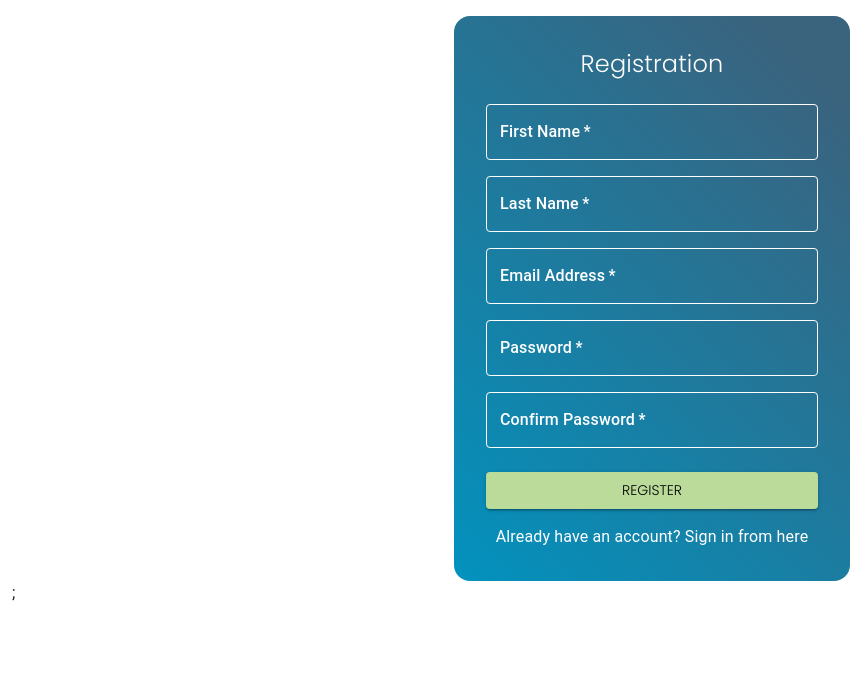
shows error message if email not in proper format
Type "test-name" into the field labelled "First Name *" at (652, 132), box x1=486 y1=104 x2=818 y2=160
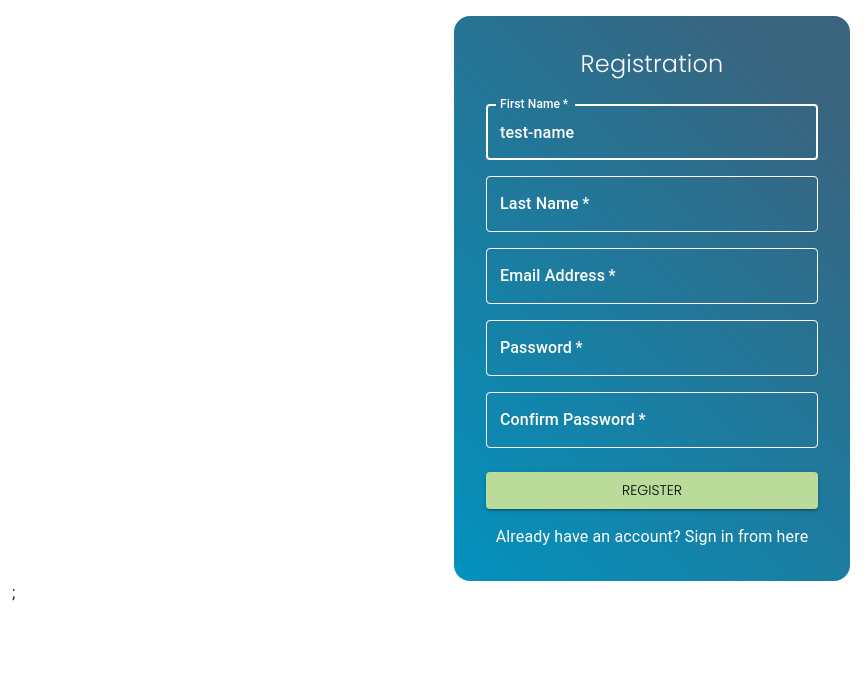
Type "test-name" into the field labelled "Last Name *" at (652, 204), box x1=486 y1=176 x2=818 y2=232
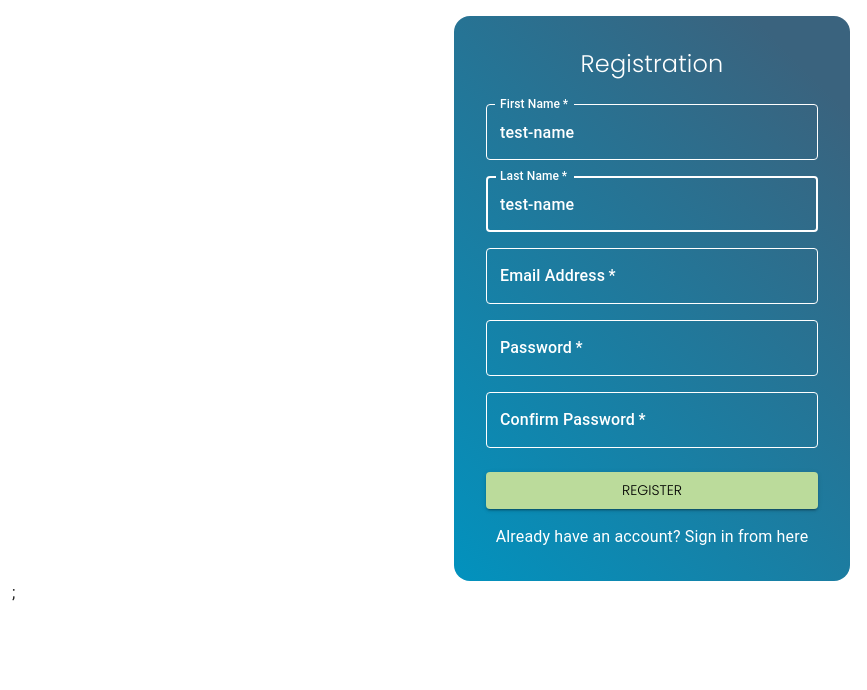
Type "testgmailcom" into the field labelled "Email Address *" at (652, 276), box x1=486 y1=248 x2=818 y2=304
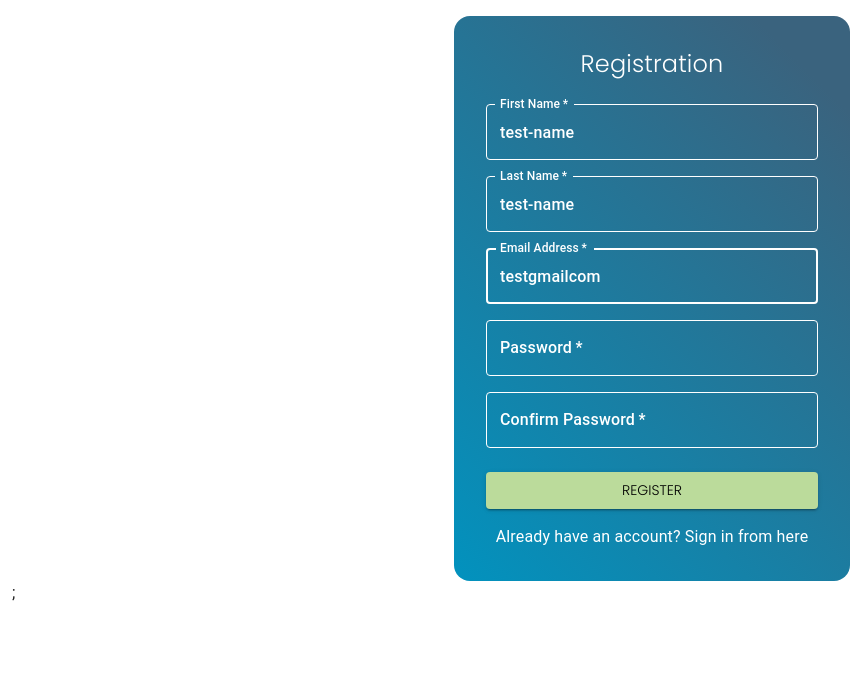
Type "test" into the password field with test id "password" at (652, 348), box x1=486 y1=320 x2=818 y2=376
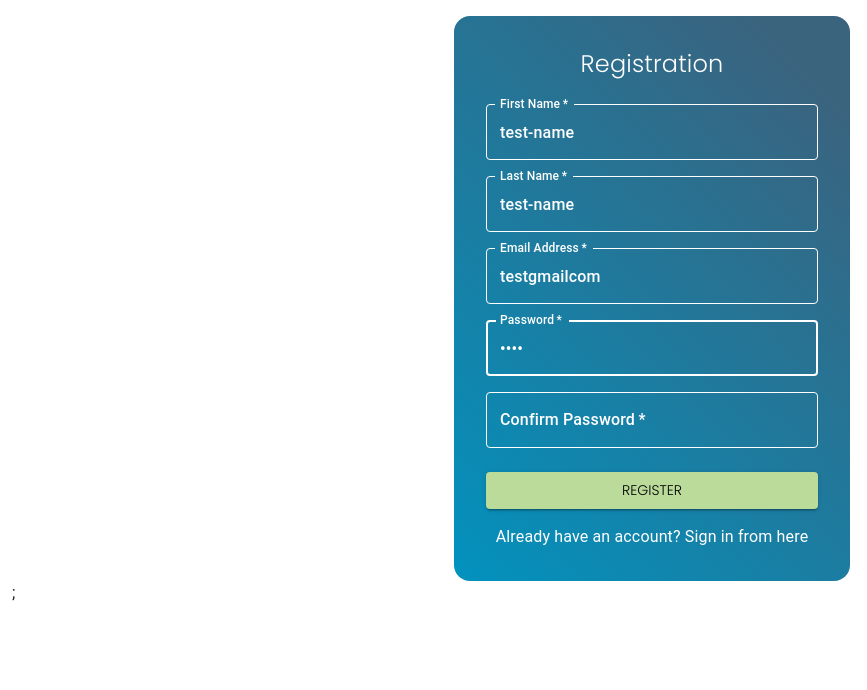
Type "test" into the password field with test id "re_password" at (652, 420), box x1=486 y1=392 x2=818 y2=448
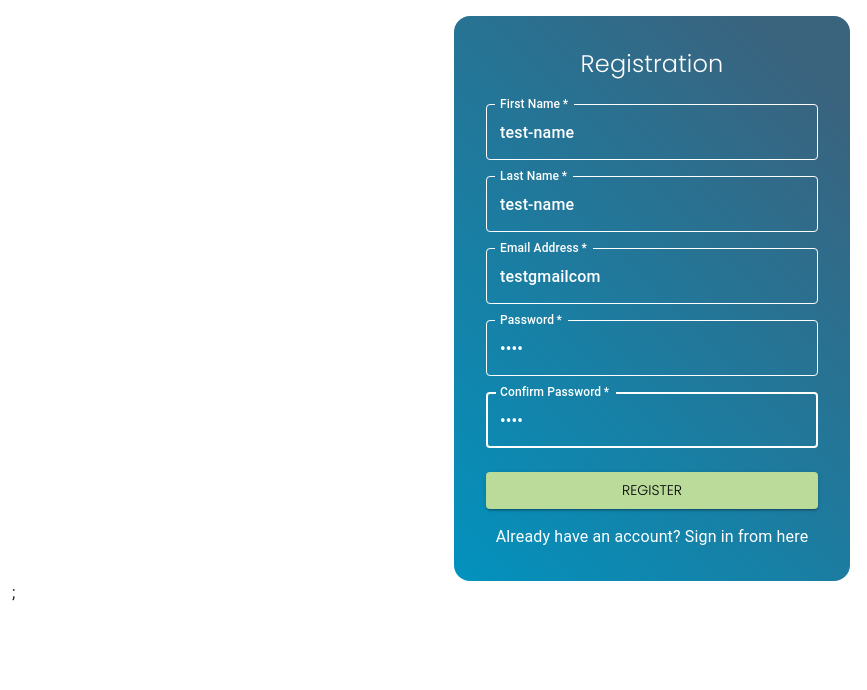
Click the button "Register" at (652, 490), box x1=486 y1=472 x2=818 y2=508
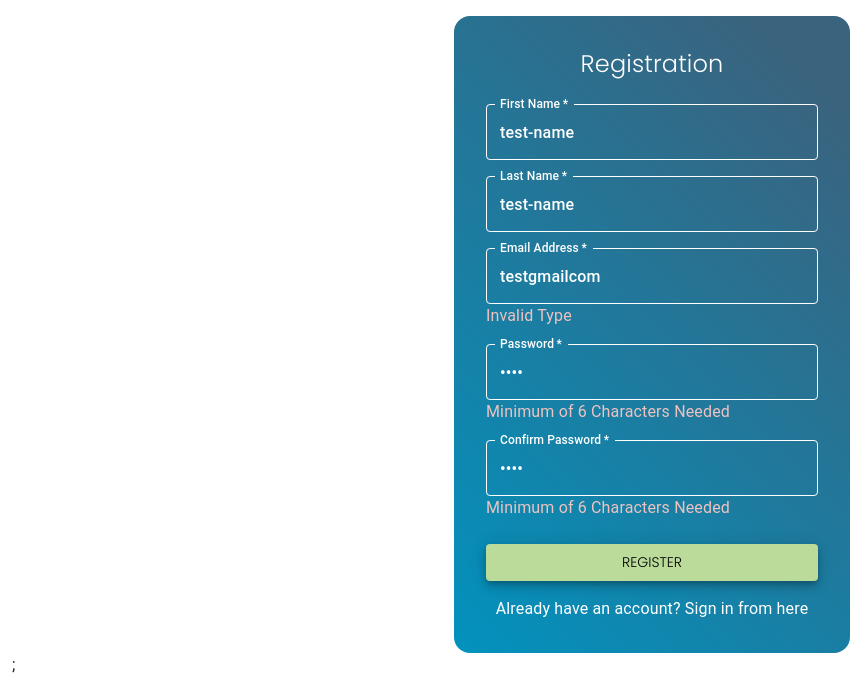
Now the text with test id "err-email" reads "Invalid Type", box x1=486 y1=306 x2=572 y2=325
